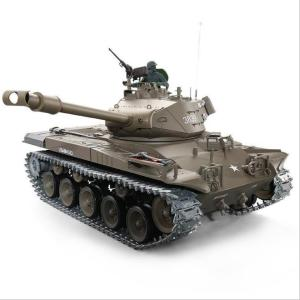Battle Tank: (3, 76, 295, 252)
